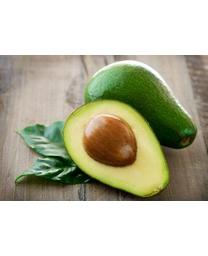avocado: (62, 98, 170, 198), (85, 60, 198, 150)
